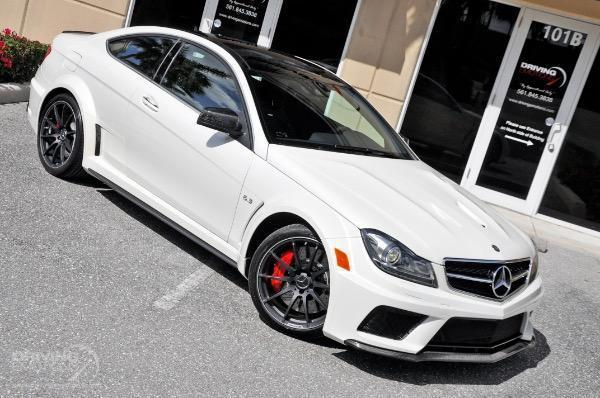C63AMG: (30, 25, 551, 375)
